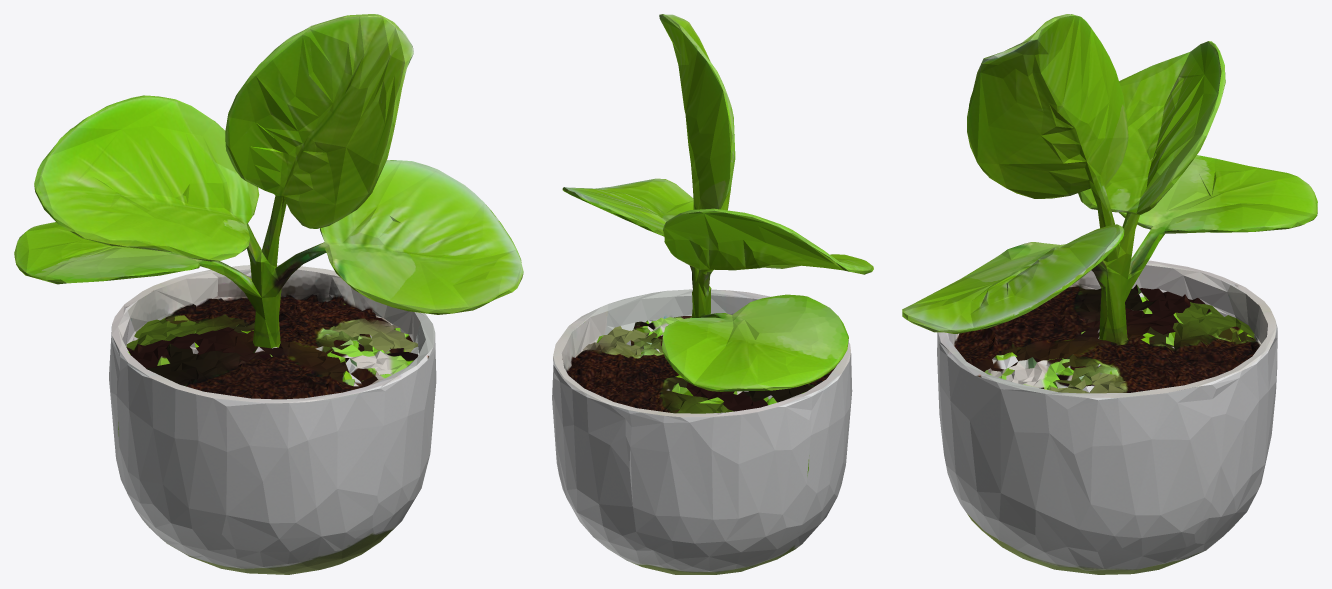
Rendered from sci-fi-planter-c.collider.glb.
3 renders of one model, left to right at view 1: azimuth 30°, elevation 25°; view 2: azimuth 150°, elevation 25°; view 3: azimuth 270°, elevation 25°, orthographic. The views are drawn at different scales.
Parts seen in each view (by area): view 1: temp_mesh.ply; view 2: temp_mesh.ply; view 3: temp_mesh.ply.
Part boxes in pixels (bbox=[...]): temp_mesh.ply: bbox=[14, 14, 523, 574]; temp_mesh.ply: bbox=[552, 14, 873, 574]; temp_mesh.ply: bbox=[902, 14, 1317, 574].
Size of the model in its own units: 1.48 by 1.97 by 1.34.
1 material, 1 textured.
